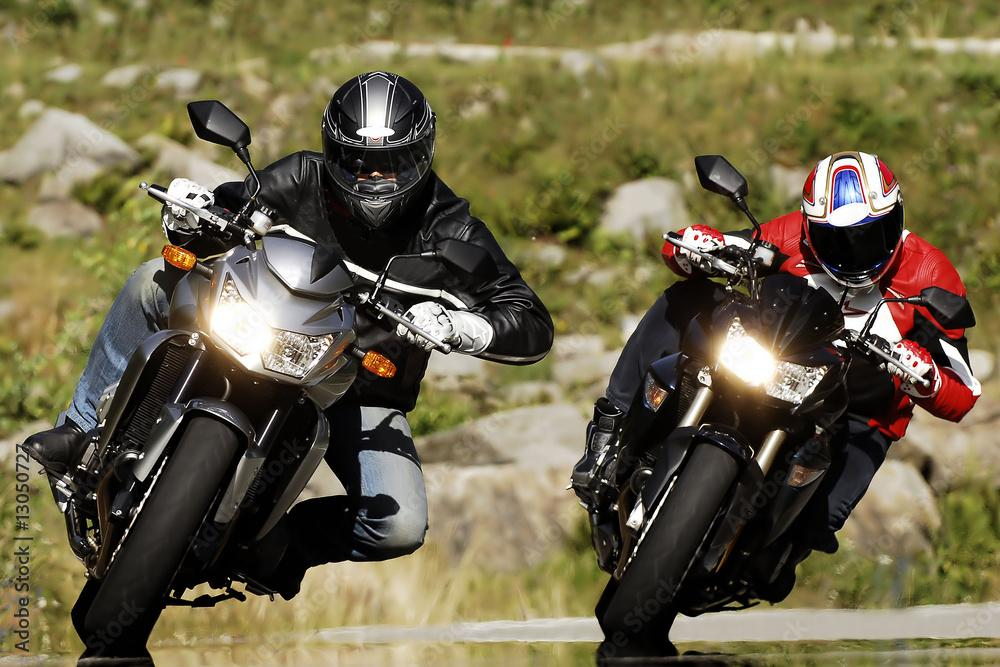helmet: (320, 69, 438, 232), (799, 149, 907, 290)
